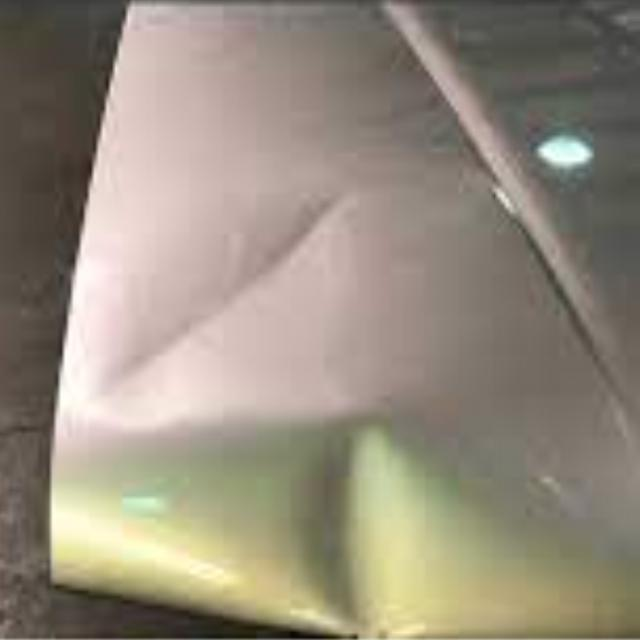dents: (83, 168, 392, 426), (289, 392, 422, 636)
